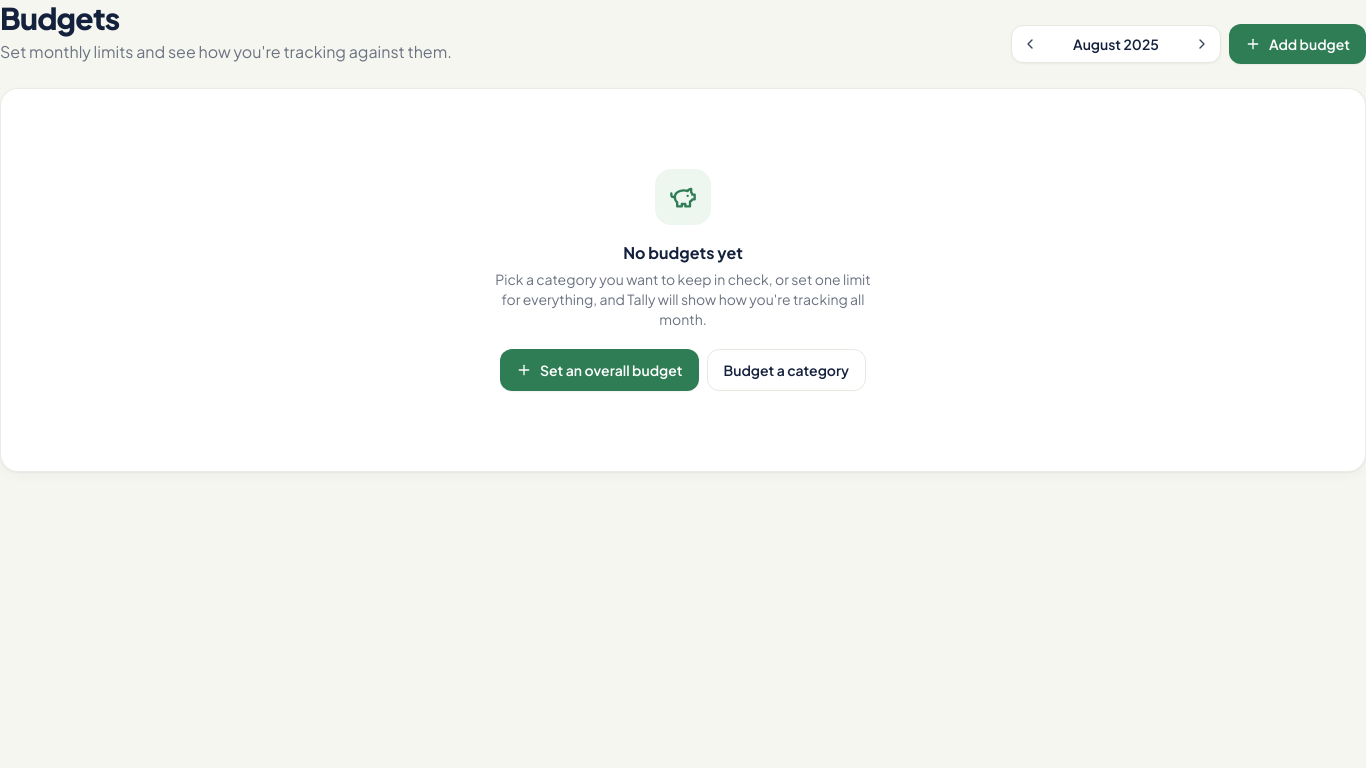
Budgets page - creating › creates an overall budget prefilled with the suggestion
This screenshot has width=1366, height=768.
Click the button "Set an overall budget" at (599, 370), box [500,349,698,391]
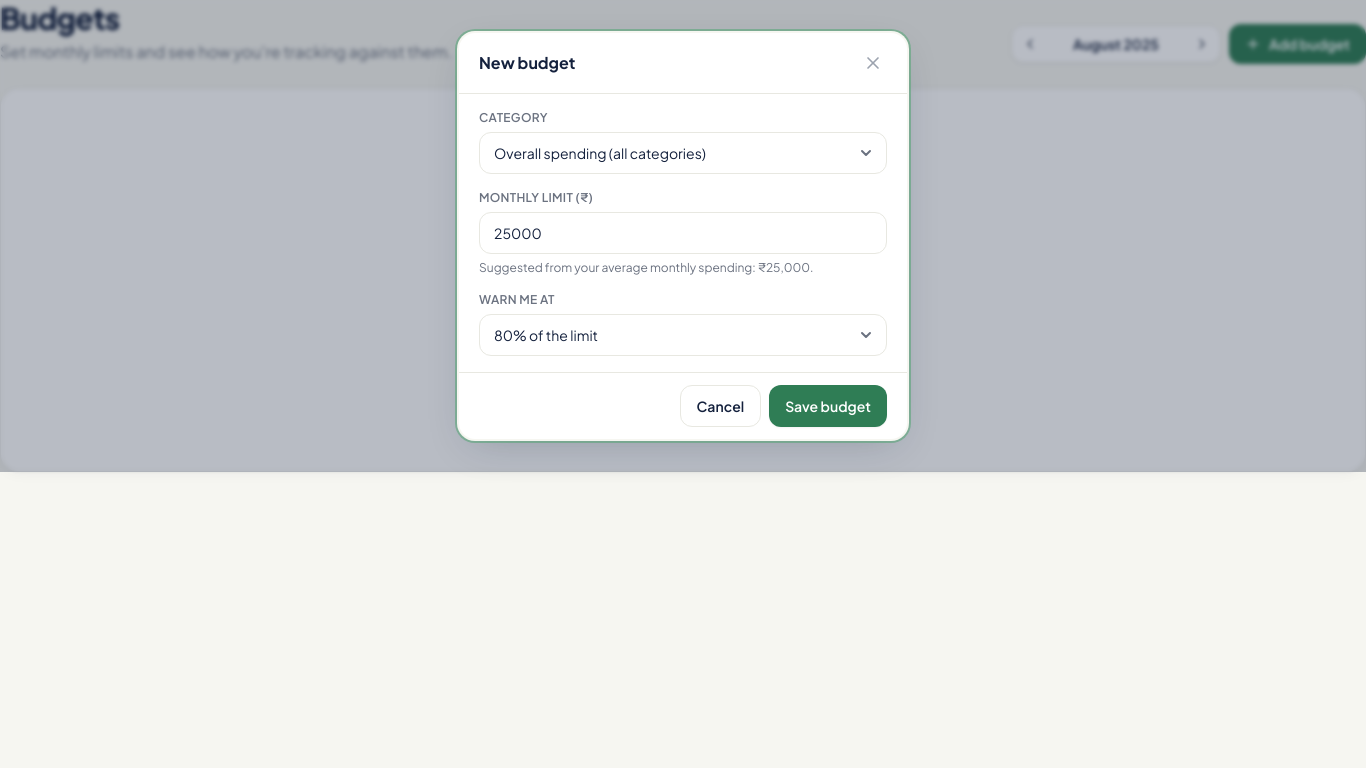
Now the number field labelled "Monthly limit (₹)" holds "25000", box [479,212,887,254]
Now the text "Suggested from your average monthly spending: ₹25,000." is shown, box [479,260,814,275]
Click the button "Save budget" at (828, 406), box [769,385,887,427]
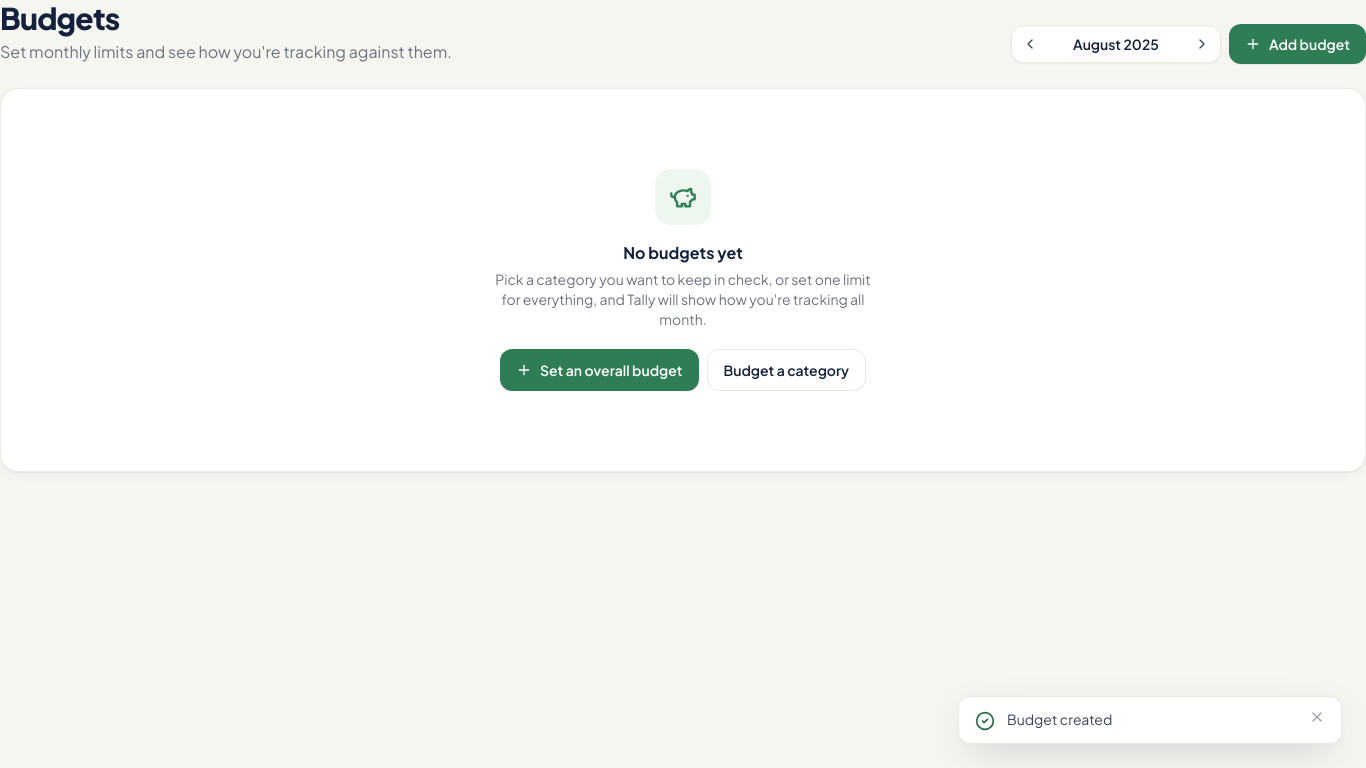
Now the dialog is gone
